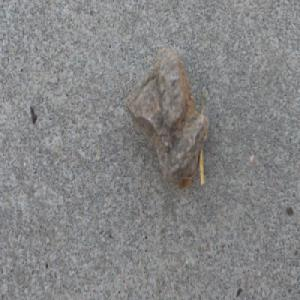Rock: (123, 45, 209, 191)
